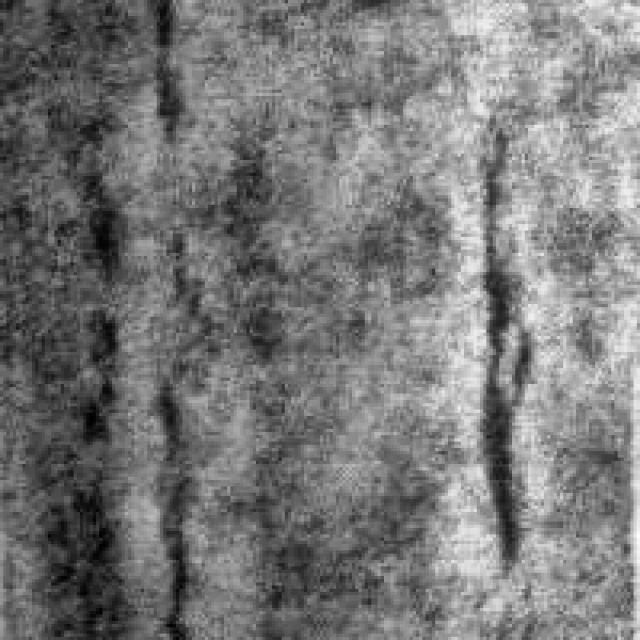Patches: (458, 124, 548, 598), (147, 374, 211, 608), (140, 0, 202, 163)
